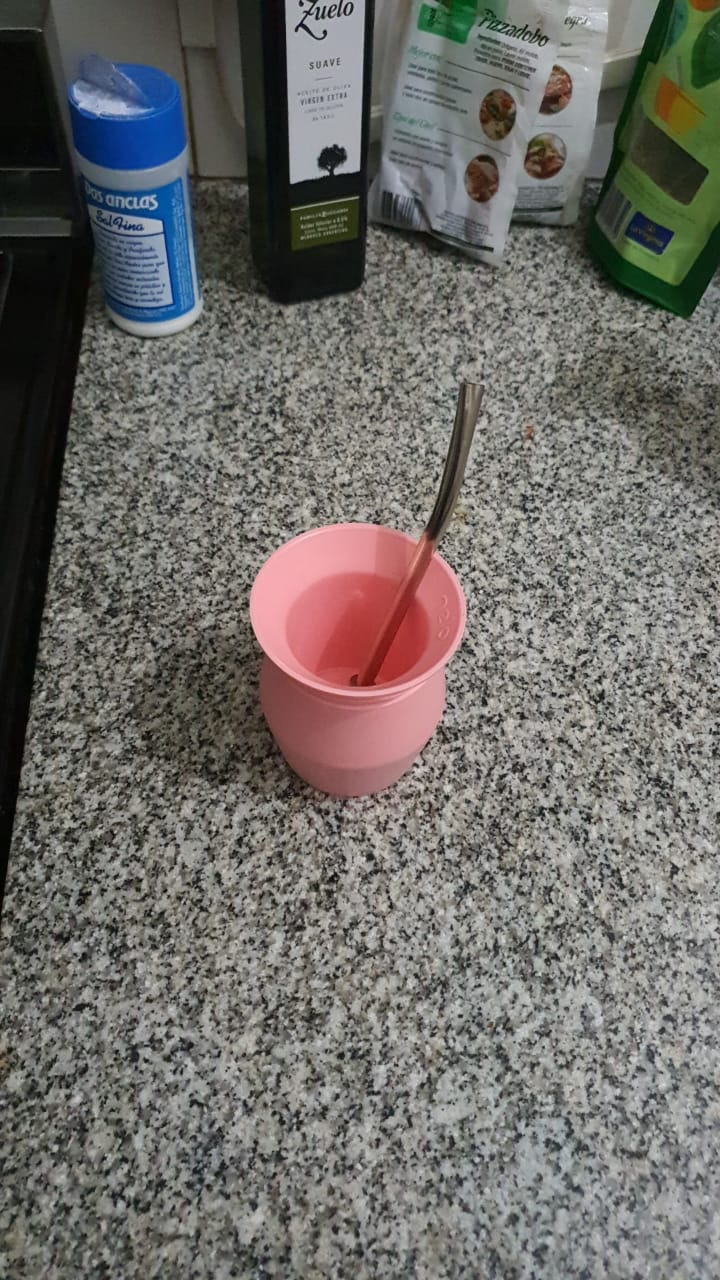mate: (236, 495, 489, 816)
plastico: (232, 508, 464, 808)
